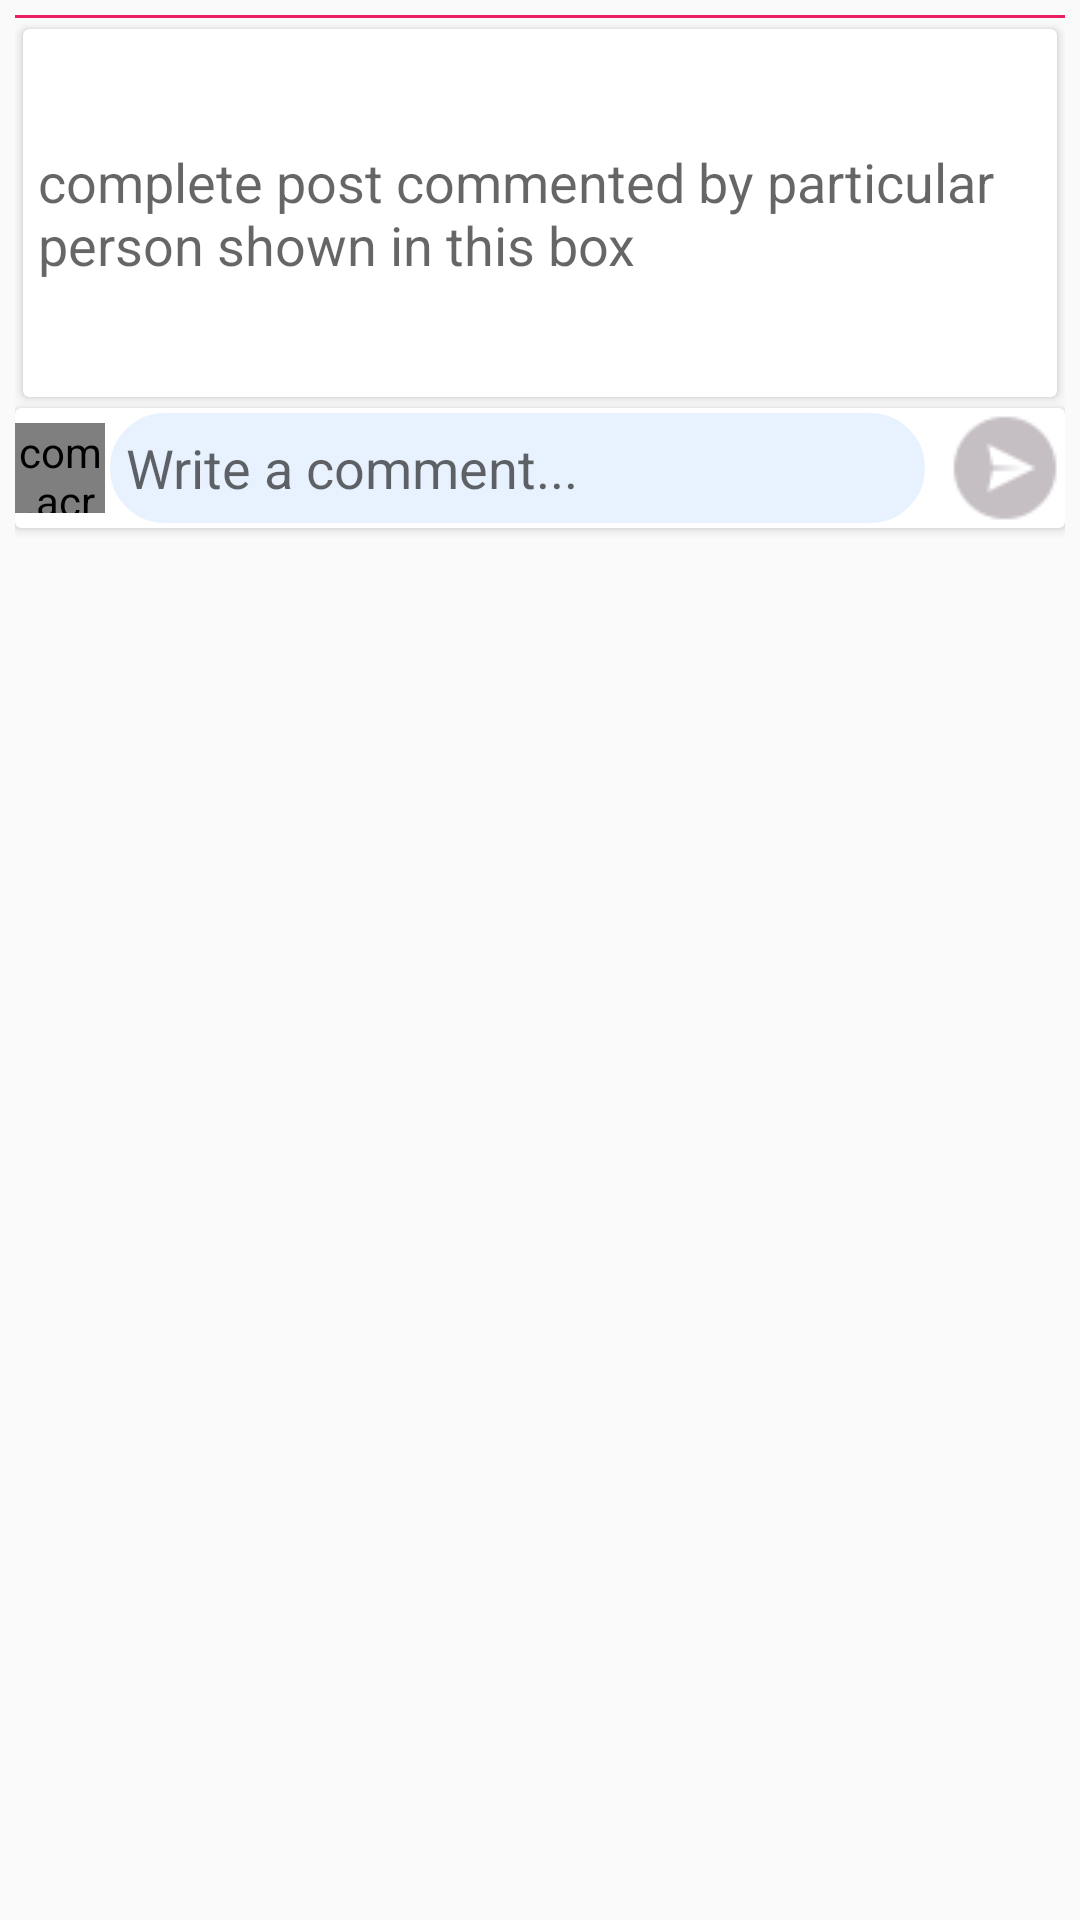

Icon bounding boxes for this 1080x1920 phone screenshot, format [x1, y1, x2, y2]:
send: [954, 409, 1065, 519]
